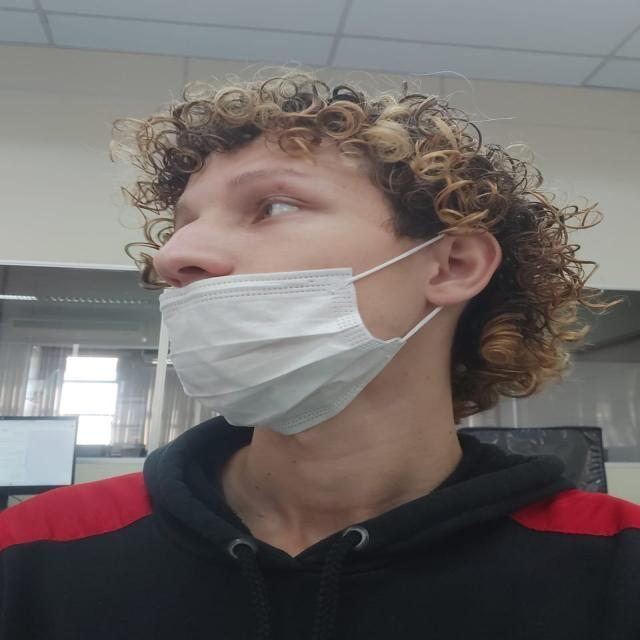hairnet: (142, 226, 452, 408)
